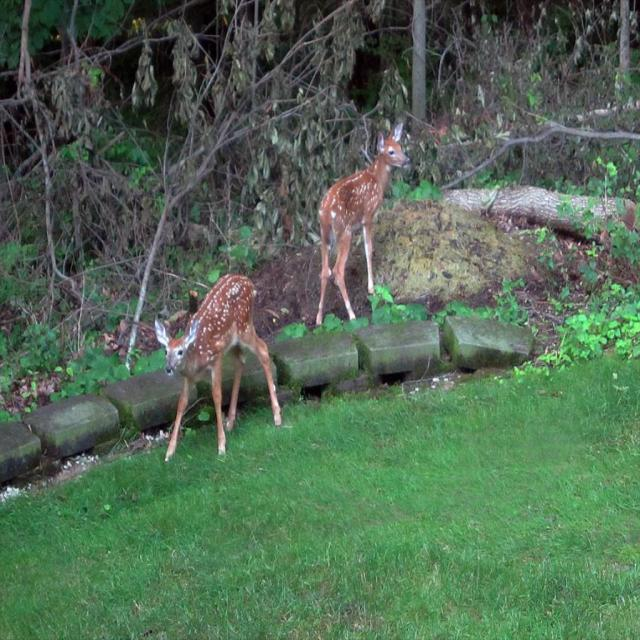Deer: (154, 274, 282, 461), (314, 123, 410, 328)
